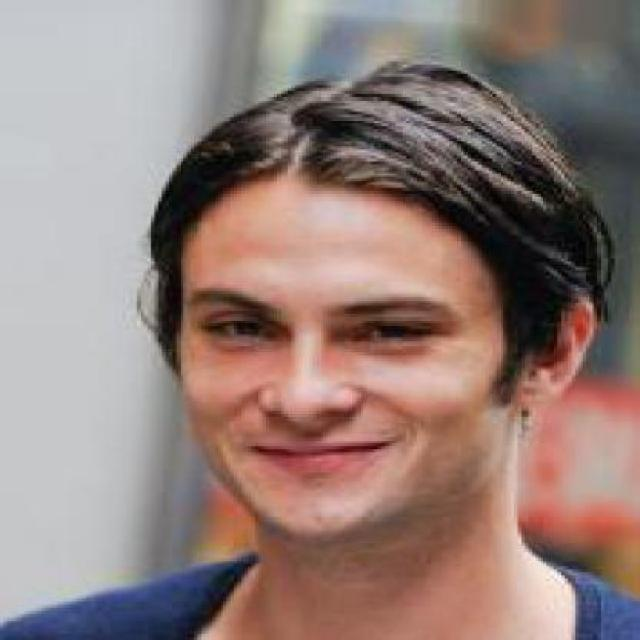closed-mouth: (244, 438, 396, 484)
